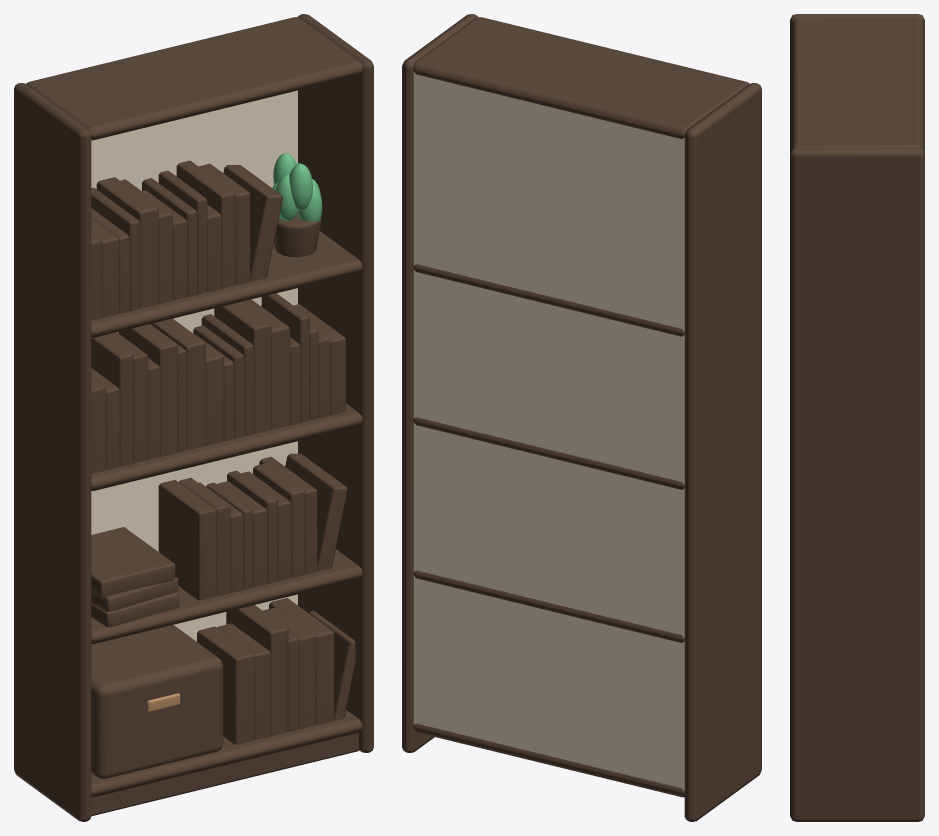
Rendered from bookcase.glb.
3 views of the same model, side by side, from view 1: azimuth 30°, elevation 25°; view 2: azimuth 150°, elevation 25°; view 3: azimuth 270°, elevation 25° (orthographic). The views are drawn at different scales.
Visible parts, largest first — view 1: bookcase; view 2: bookcase; view 3: bookcase.
Part boxes in pixels (bbox=[...]): bookcase: bbox=[14, 14, 373, 821]; bookcase: bbox=[402, 14, 761, 821]; bookcase: bbox=[790, 14, 924, 821].
Size of the model in its own units: 0.8087 by 1.81 by 0.3287.
